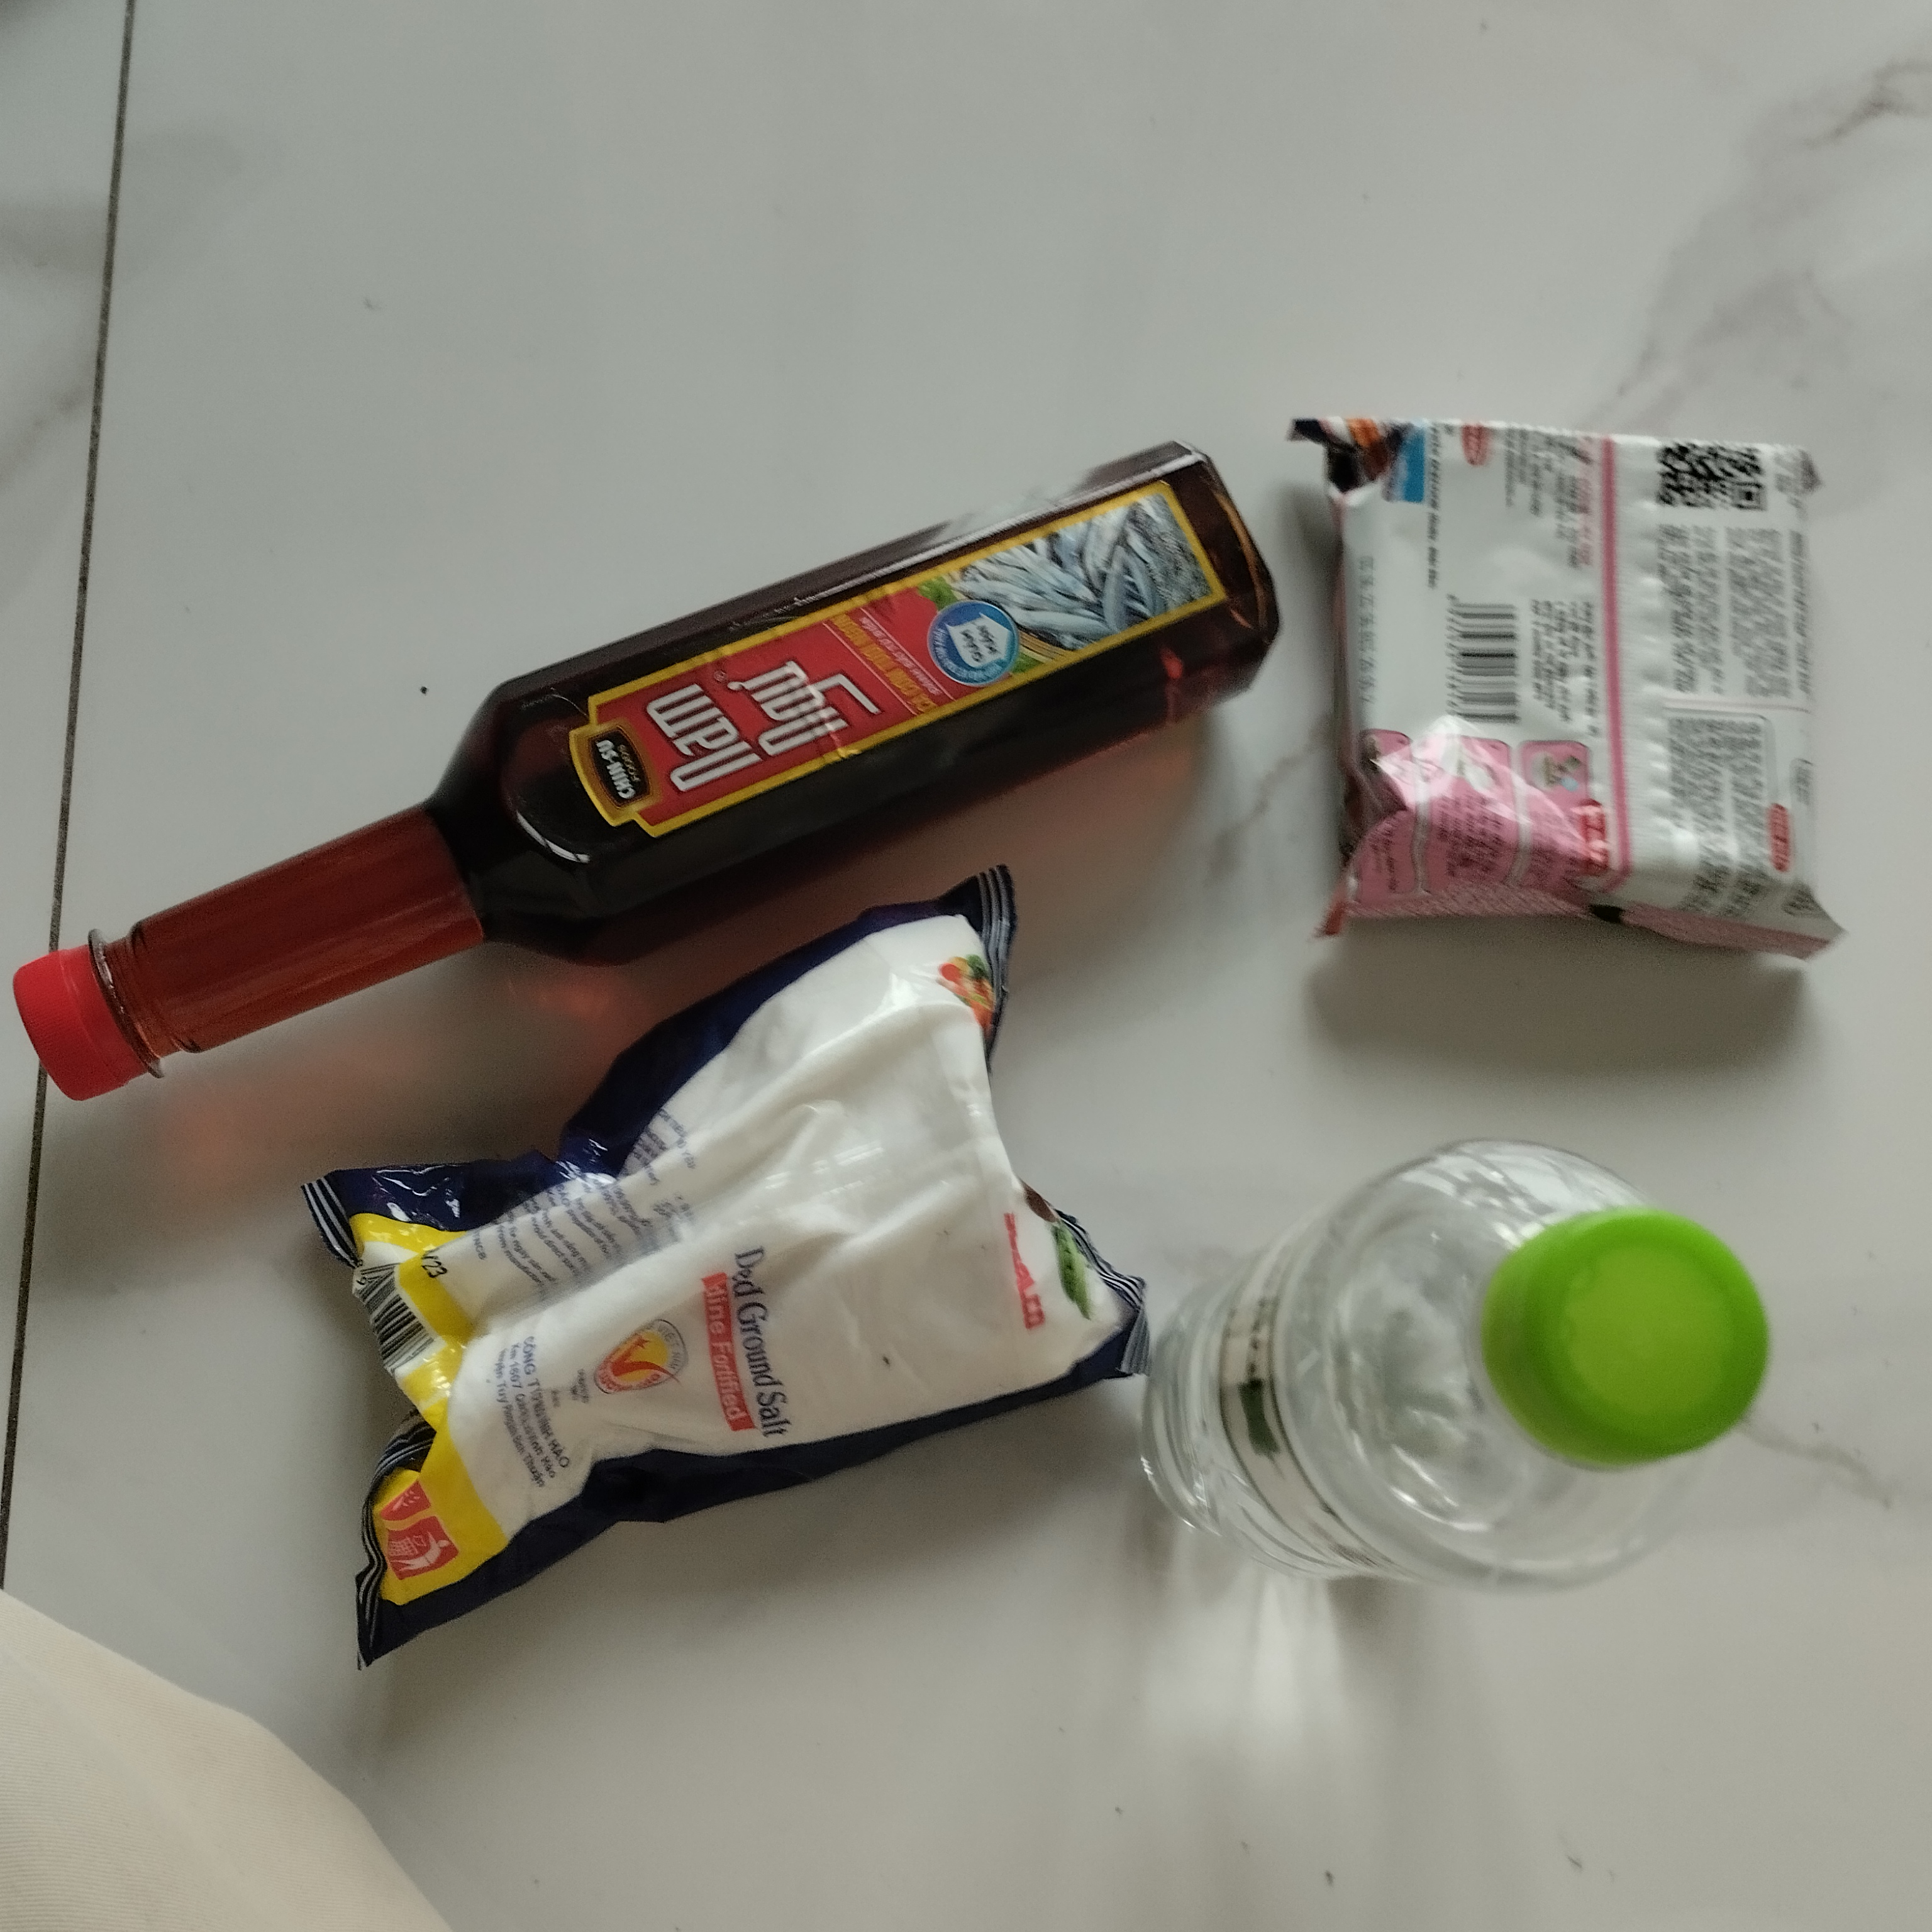Dasani: (1143, 1136, 1769, 1631)
Haohao: (1290, 409, 1865, 980)
Namngu: (4, 426, 1281, 1109)
Salt: (288, 853, 1157, 1649)
